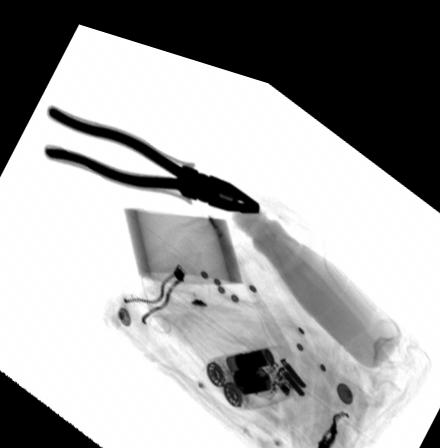Pliers: (41, 100, 262, 200)
